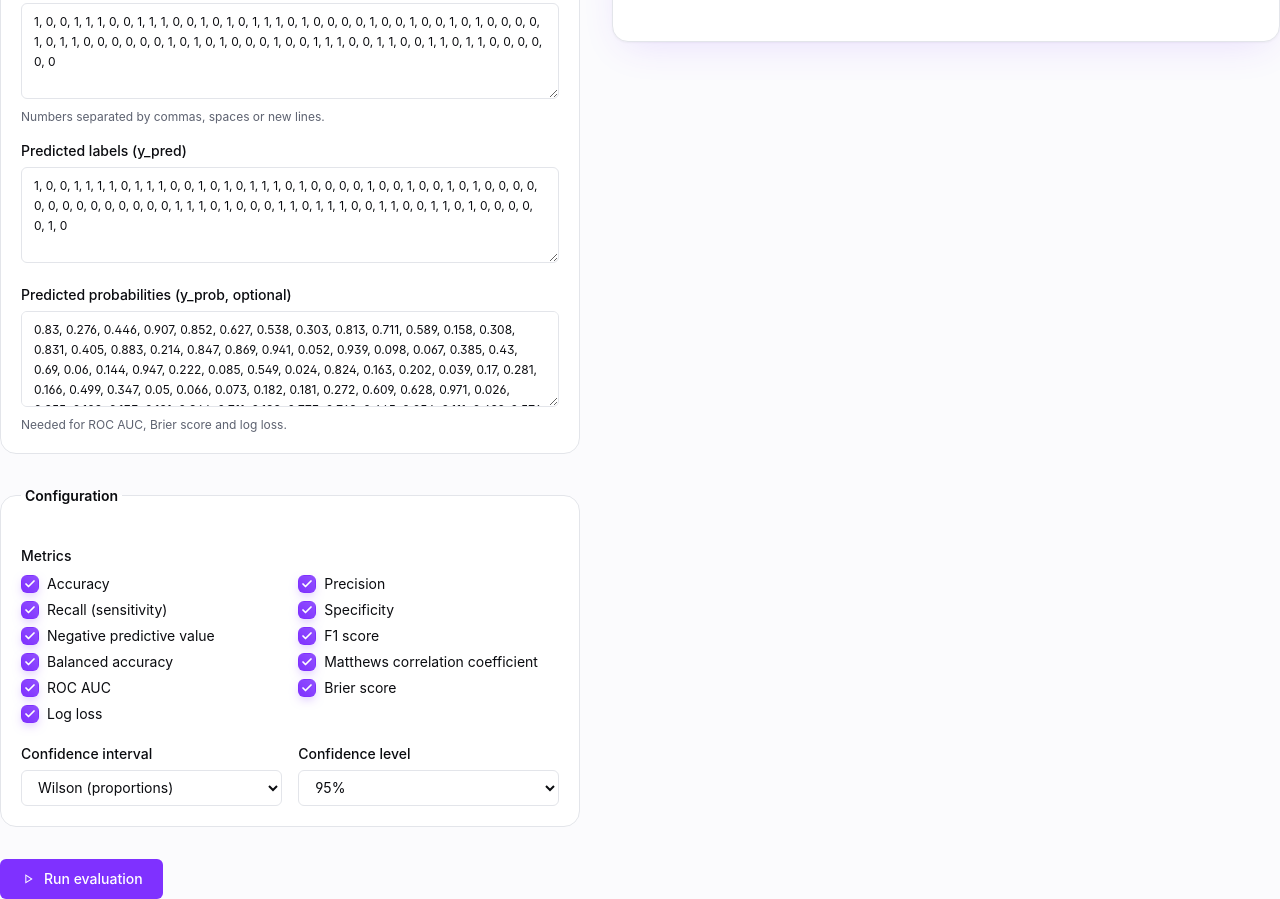
Test: hidden settings never block a run › runs after an invalid resample count once bootstrap is switched off
This screenshot has width=1280, height=899.
(page scrolled)
Select "Percentile bootstrap" in the dropdown labelled "Confidence interval" at (152, 788), box [21,770,282,806]
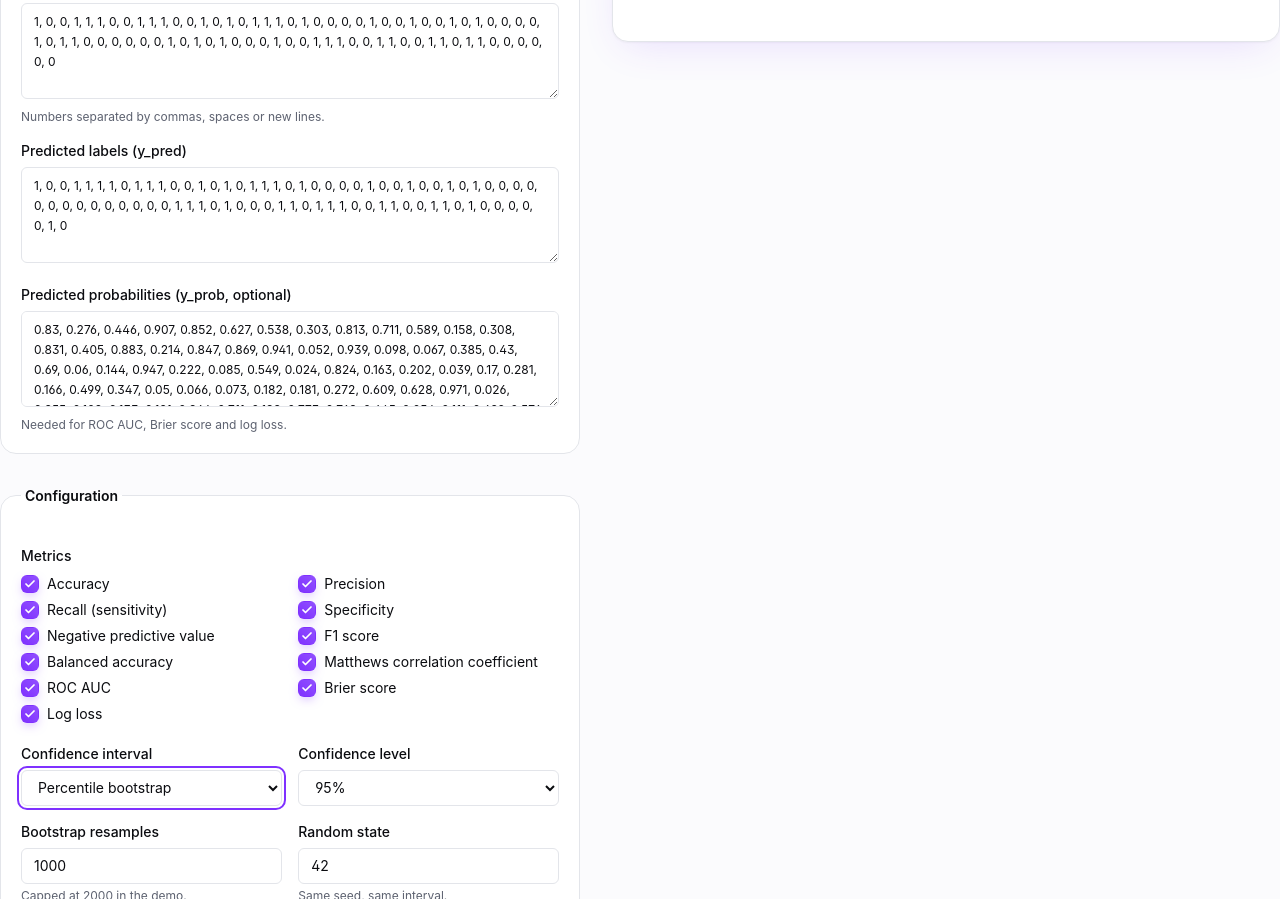
Replace the text in the number field labelled "Bootstrap resamples" with "50" at (152, 866), box [21,848,282,884]
(page scrolled)
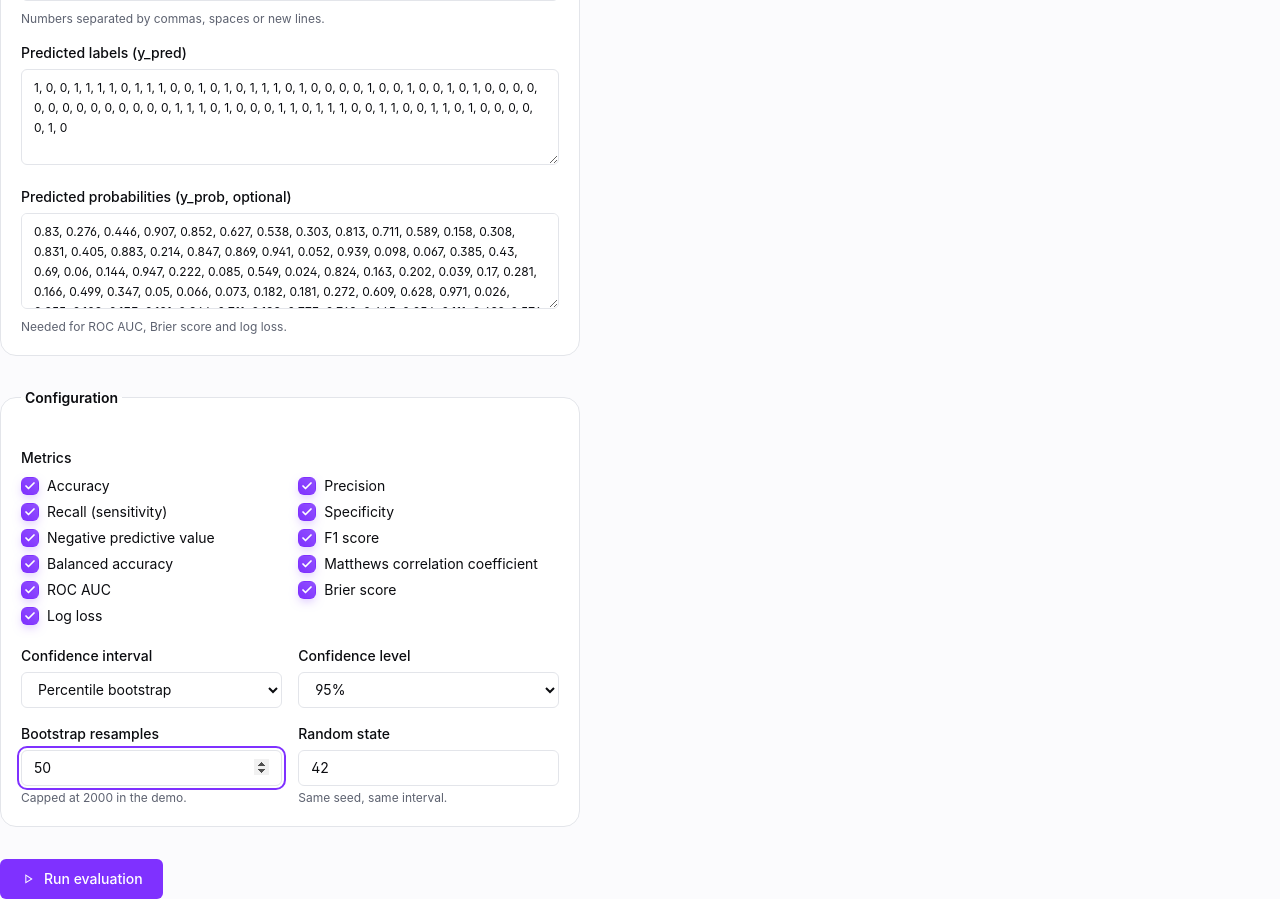
Click the button "Run evaluation" at (81, 878), box [0,858,163,898]
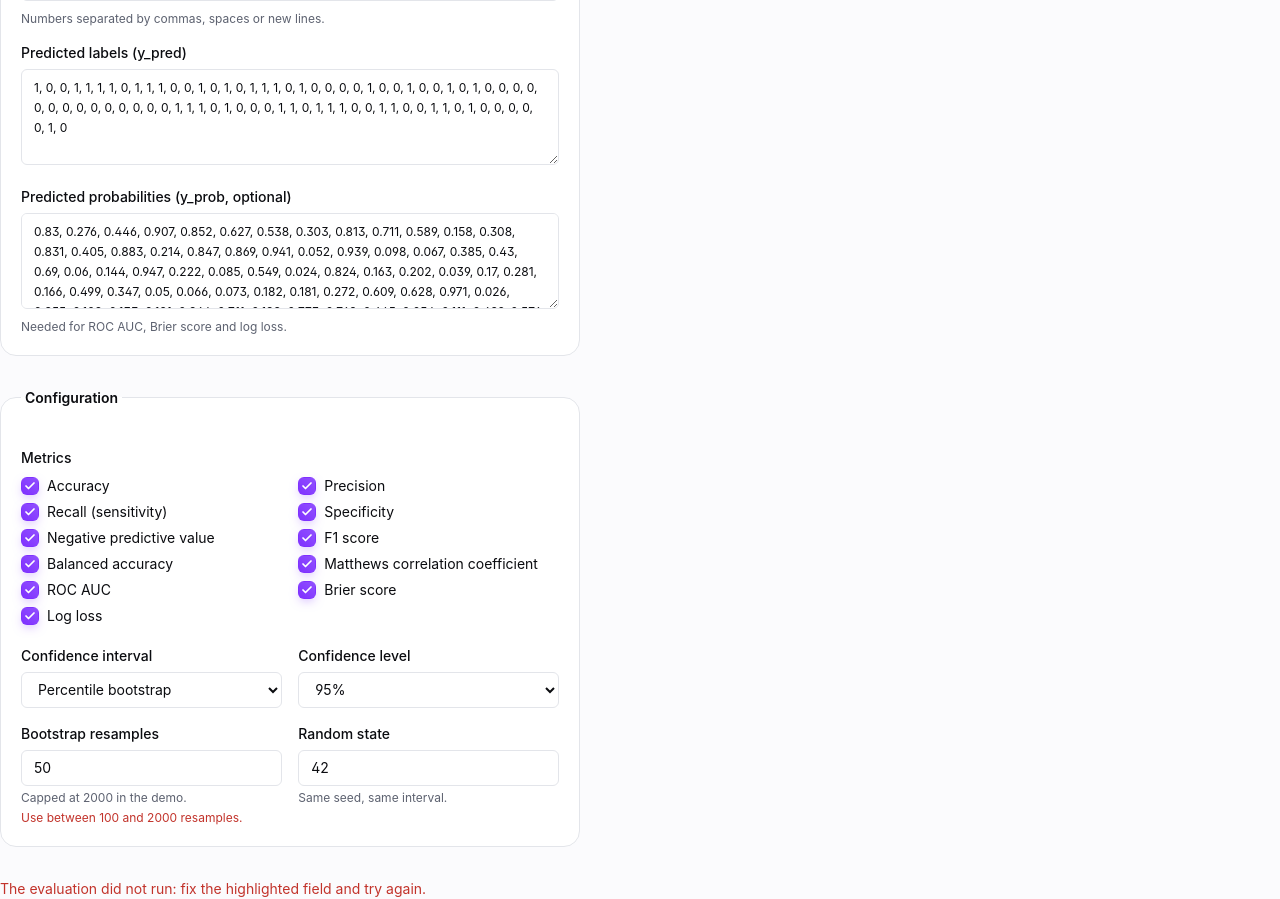
Expected: the text "Use between 100 and 2000 resamples." is shown, [21,810,242,824]
Select "Wilson (proportions)" in the dropdown labelled "Confidence interval" at (152, 690), box [21,672,282,708]
(page scrolled)
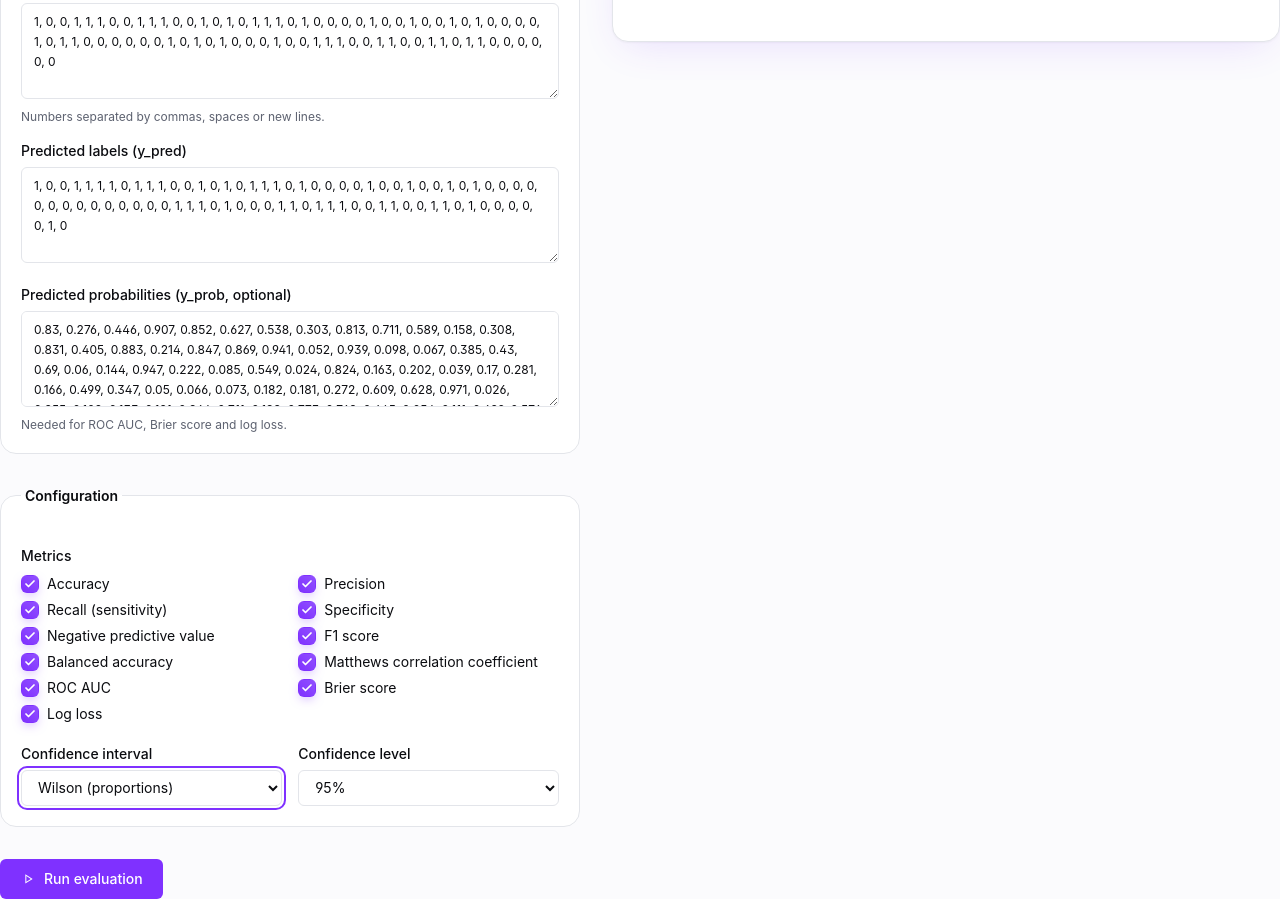
Click the button "Run evaluation" at (81, 878), box [0,858,163,898]
(page scrolled)
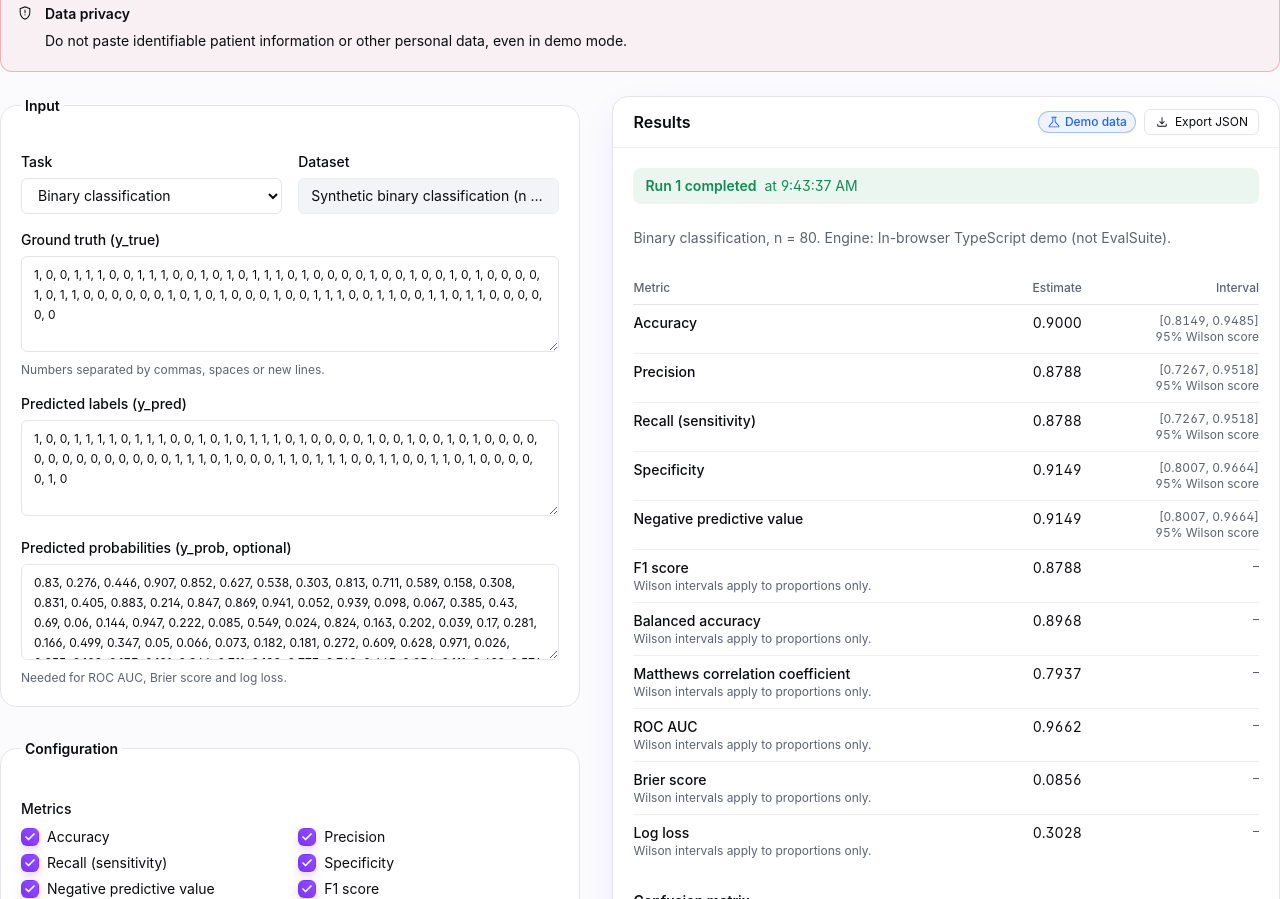
Expected: the table named "Metric estimates" is shown, [634,272,1259,866]
